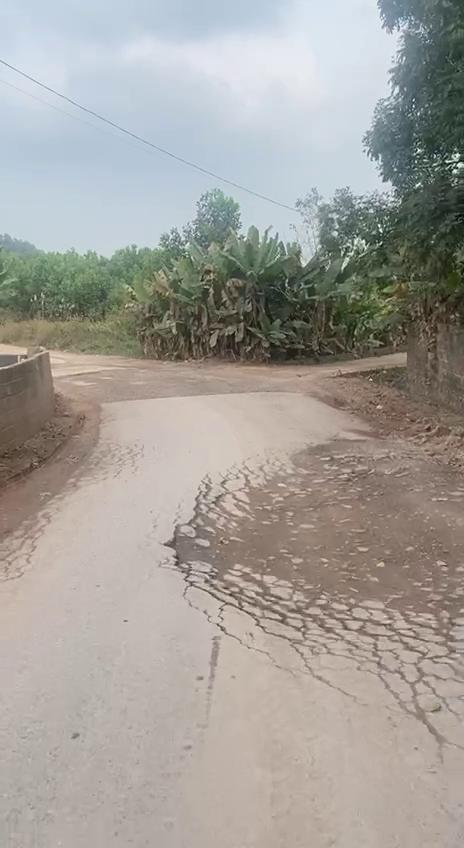pothole: (166, 431, 464, 660)
